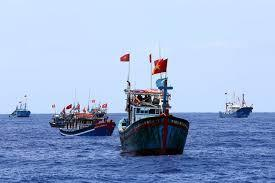Ship: (120, 60, 190, 156), (61, 114, 116, 137), (220, 94, 254, 119), (50, 105, 75, 129), (10, 96, 31, 119)
